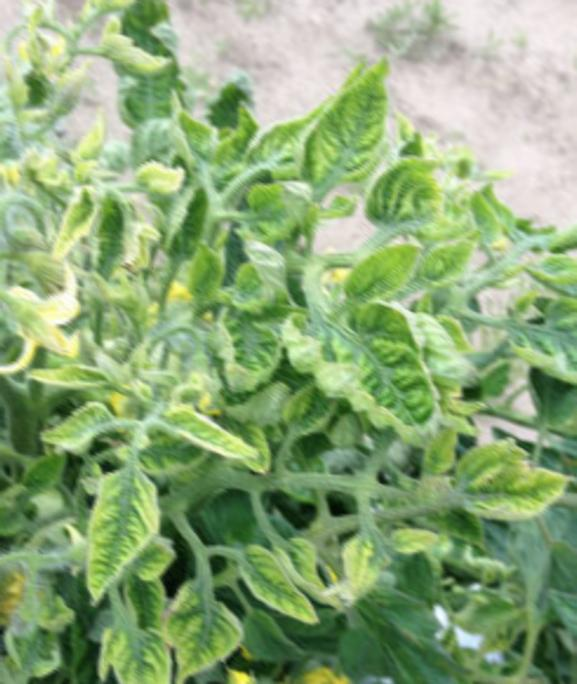Tomato leaf yellow virus: (274, 296, 455, 460), (301, 51, 414, 188), (67, 459, 171, 602), (443, 438, 577, 545), (192, 308, 303, 398), (329, 237, 441, 326), (60, 609, 179, 684), (231, 542, 325, 632), (158, 584, 243, 680), (0, 294, 87, 361)
